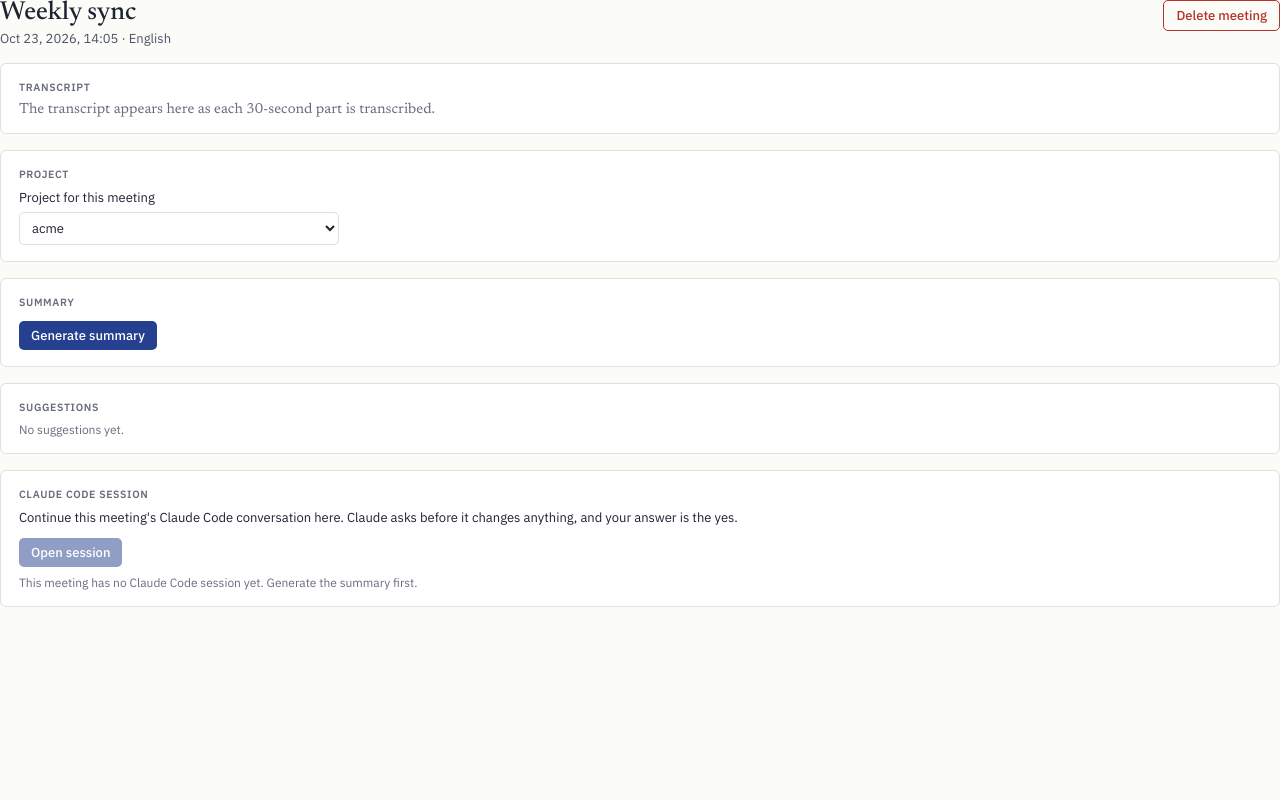
Test: the confirm names the meeting and lists what goes, without an archive folder
Check: the heading "Weekly sync" is shown, box [0,0,136,26]
What coordinates should you click on to do the following:
click the button "Delete meeting"
I would click on:
 (1222, 16)
Its box is [1163,0,1279,31].
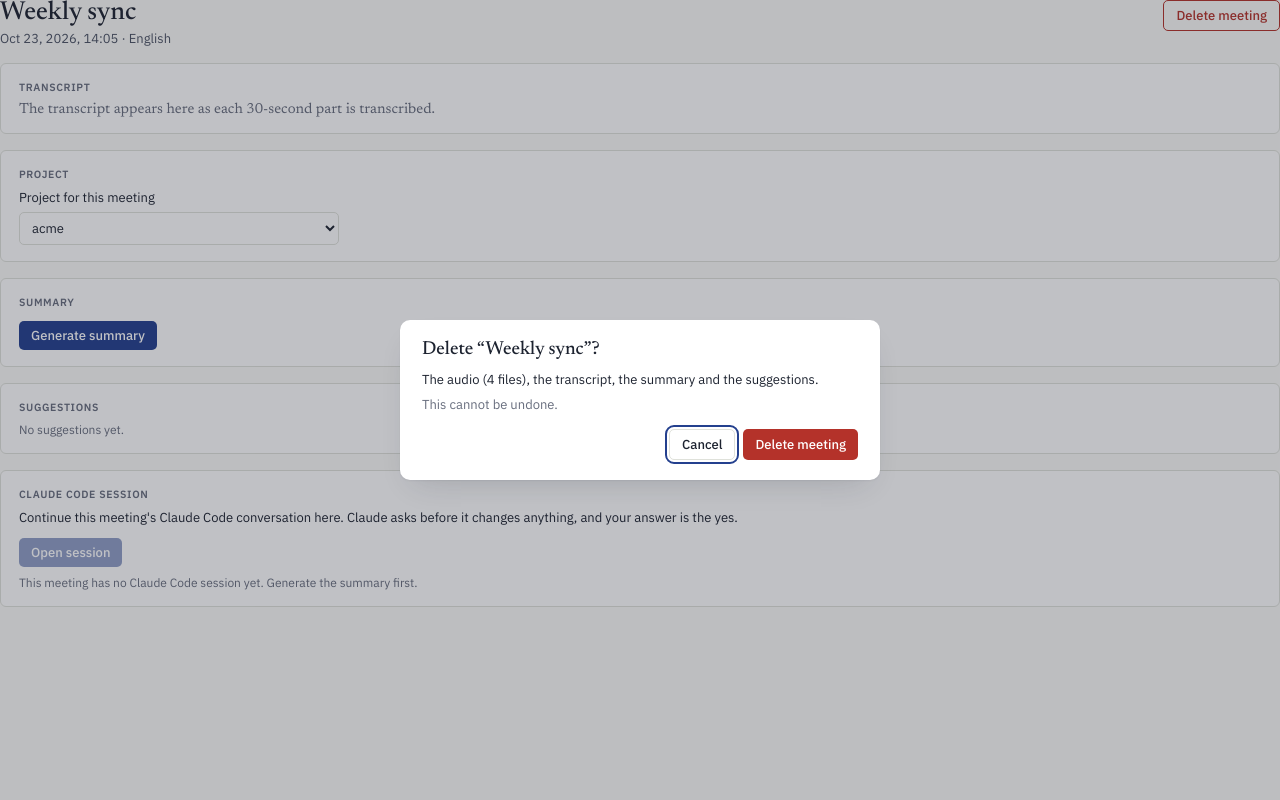
Check: the heading "Delete “Weekly sync”?" is shown, box [422,340,600,359]
Check: the text "The audio (4 files), the transcript, the summary and the suggestions." is shown, box [422,371,858,388]
Check: the text "This cannot be undone." is shown, box [422,396,558,413]
